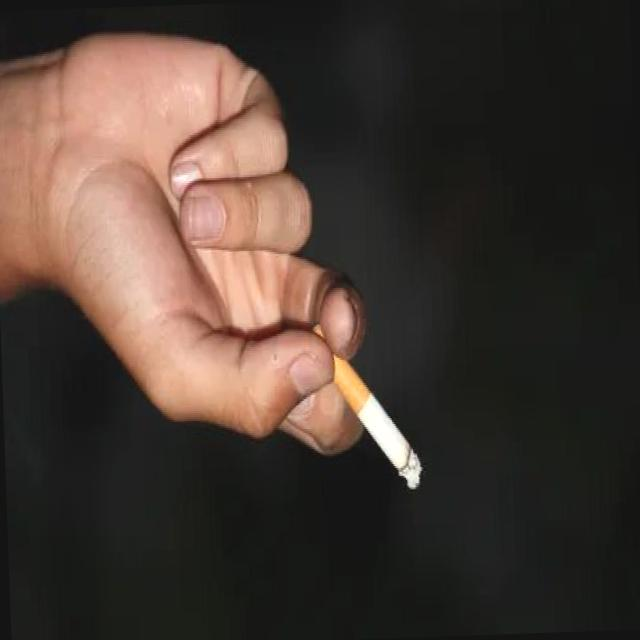cigarette: (306, 320, 424, 494)
